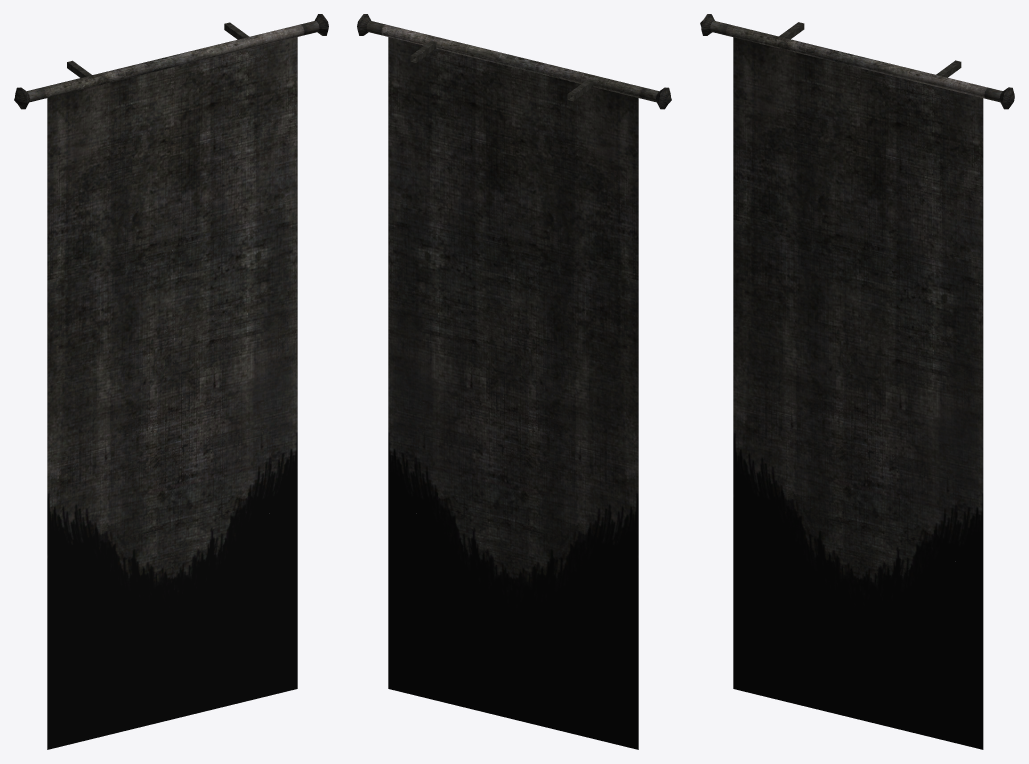
The model's file is banners_rag.dae.
3 views of the same model, side by side, from view 1: azimuth 30°, elevation 25°; view 2: azimuth 150°, elevation 25°; view 3: azimuth 330°, elevation 25° (orthographic).
Parts seen in each view (by area): view 1: polySurface19, polySurface24, polySurface20; view 2: polySurface19, polySurface24, polySurface20; view 3: polySurface19, polySurface24, polySurface20.
Part boxes in pixels (bbox=[...]): polySurface19: bbox=[47, 37, 297, 749]; polySurface24: bbox=[47, 40, 297, 744]; polySurface20: bbox=[14, 14, 328, 109]; polySurface19: bbox=[388, 37, 638, 749]; polySurface24: bbox=[388, 38, 638, 744]; polySurface20: bbox=[357, 14, 671, 109]; polySurface19: bbox=[733, 37, 983, 749]; polySurface24: bbox=[733, 38, 983, 749]; polySurface20: bbox=[700, 14, 1014, 109].
Size of the model in its own units: 2 by 4.07 by 0.3168.
